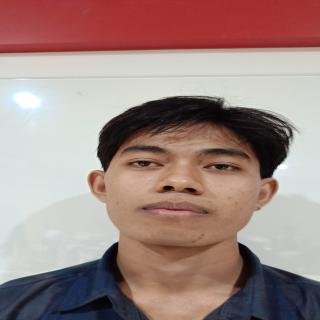Netral: (102, 115, 264, 254)
